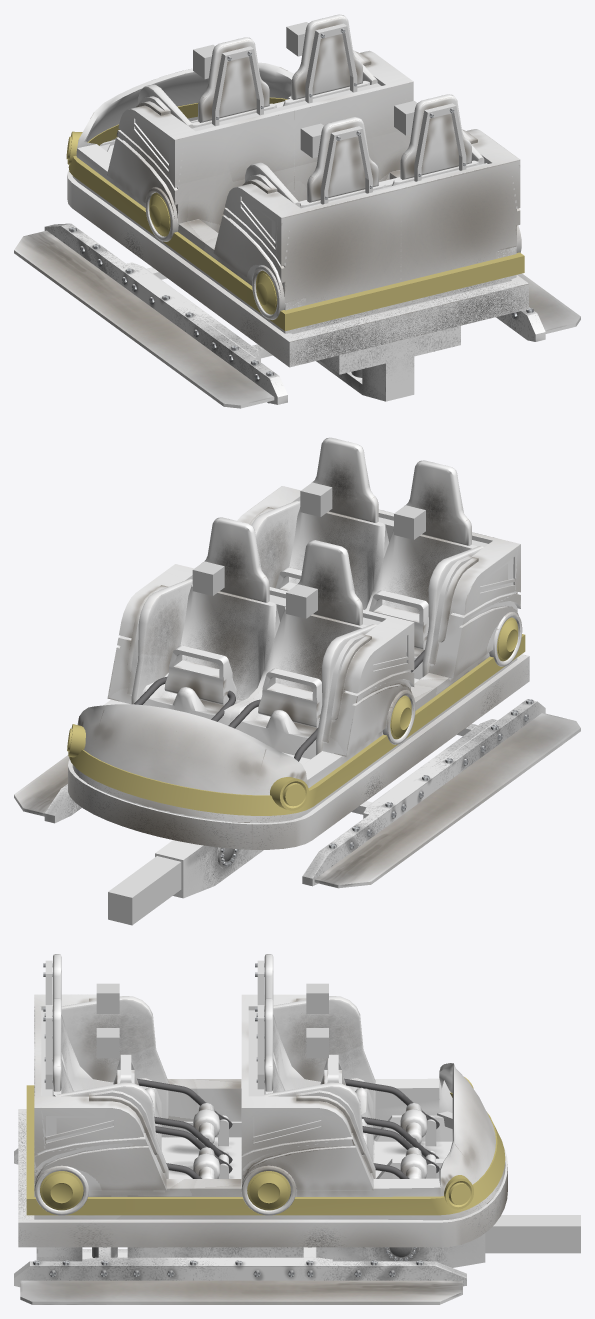
Rendered from Middle.dae.
3 views of the same model, one above another, from view 1: azimuth 30°, elevation 25°; view 2: azimuth 150°, elevation 25°; view 3: azimuth 270°, elevation 25° (orthographic). The views are drawn at different scales.
Parts seen in each view (by area): view 1: Cube_006, Cube, Cube_002, Plane_002, Plane_001, Plane_003, Plane, Cube_005, Cube_004, Cube_001, View2, View3 (+2 smaller); view 2: Cube_006, Cube_002, Plane_001, Cube, Plane, Plane_002, Plane_003, Harness0, Link, Harness1, Harness2, View1 (+4 smaller); view 3: Cube_006, Cube, Cube_002, Link, Harness2, Harness1, Plane, Plane_003, Cube_005, Cube_004, Harness0, Harness3 (+8 smaller).
Part boxes in pixels (x1=…): Cube_006: x1=66, y1=50, x2=528, y2=367; Cube: x1=44, y1=145, x2=545, y2=404; Cube_002: x1=14, y1=230, x2=580, y2=408; Plane_002: x1=392, y1=94, x2=479, y2=185; Plane_001: x1=283, y1=14, x2=369, y2=106; Plane_003: x1=300, y1=117, x2=385, y2=208; Plane: x1=192, y1=37, x2=276, y2=127; Cube_005: x1=192, y1=23, x2=380, y2=131; Cube_004: x1=301, y1=103, x2=487, y2=209; Cube_001: x1=69, y1=28, x2=533, y2=403; View2: x1=300, y1=123, x2=323, y2=158; View3: x1=394, y1=101, x2=416, y2=135; Cube_006: x1=67, y1=486, x2=529, y2=849; Cube_002: x1=14, y1=713, x2=580, y2=888; Plane_001: x1=142, y1=517, x2=279, y2=725; Cube: x1=44, y1=678, x2=545, y2=898; Plane: x1=229, y1=540, x2=366, y2=759; Plane_002: x1=289, y1=437, x2=388, y2=610; Plane_003: x1=377, y1=460, x2=476, y2=679; Harness0: x1=134, y1=645, x2=236, y2=721; Link: x1=108, y1=856, x2=181, y2=925; Harness1: x1=228, y1=668, x2=322, y2=761; Harness2: x1=369, y1=590, x2=428, y2=672; View1: x1=192, y1=561, x2=224, y2=595; Cube_006: x1=18, y1=994, x2=507, y2=1247; Cube: x1=14, y1=1115, x2=485, y2=1287; Cube_002: x1=20, y1=1280, x2=462, y2=1304; Link: x1=485, y1=1215, x2=580, y2=1253; Harness2: x1=113, y1=1054, x2=232, y2=1163; Harness1: x1=320, y1=1054, x2=439, y2=1158; Plane: x1=264, y1=954, x2=373, y2=1144; Plane_003: x1=53, y1=954, x2=161, y2=1144; Cube_005: x1=248, y1=960, x2=375, y2=1127; Cube_004: x1=41, y1=960, x2=163, y2=1126; Harness0: x1=362, y1=1126, x2=439, y2=1178; Harness3: x1=155, y1=1126, x2=232, y2=1178.
Bounding box in the file's own units: 1.76 × 2.49 × 1.37.
10 materials, 8 textured.
